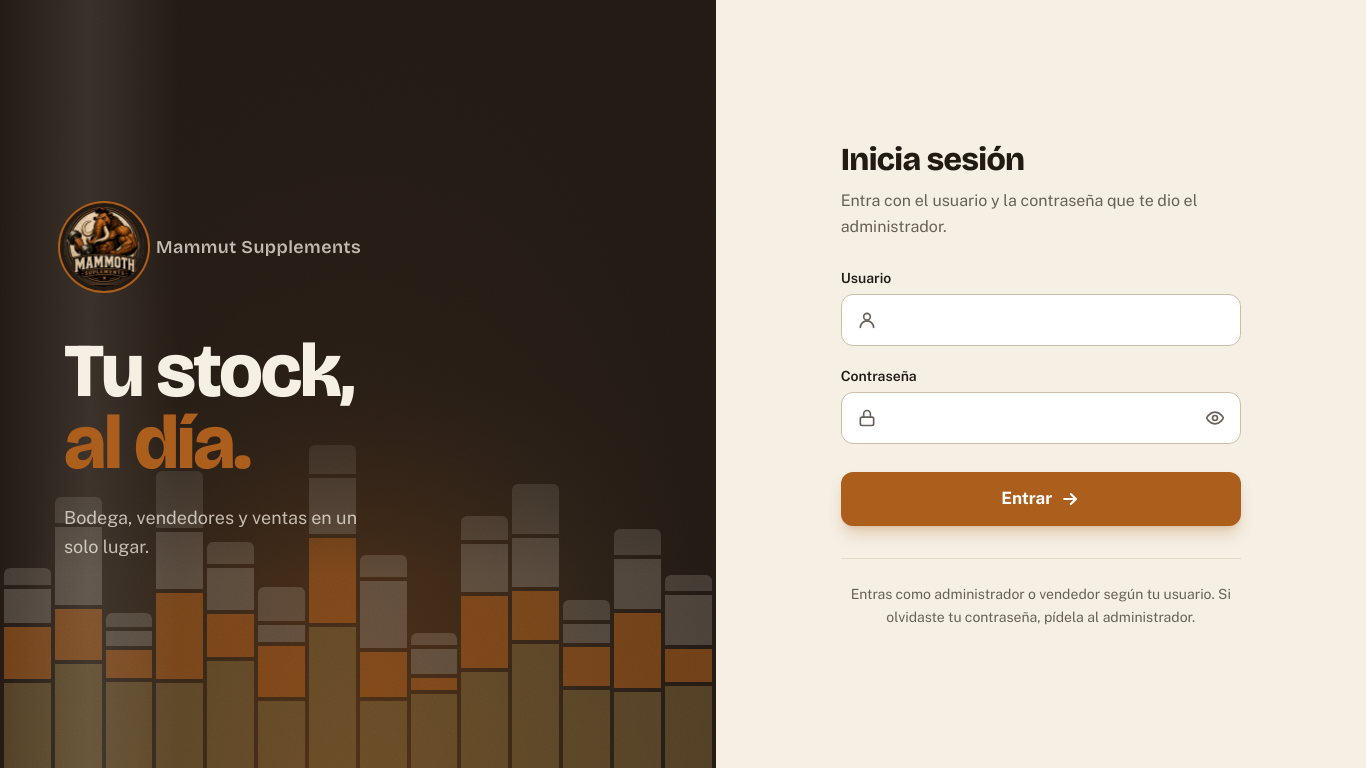
Test case: LoginPageComponent › con credenciales incorrectas muestra el mensaje de error
Step 1. Type "admin@mammut.local" into the field with id "email" → {"x": 1041, "y": 320}, box left=841, top=294, right=1241, bottom=346
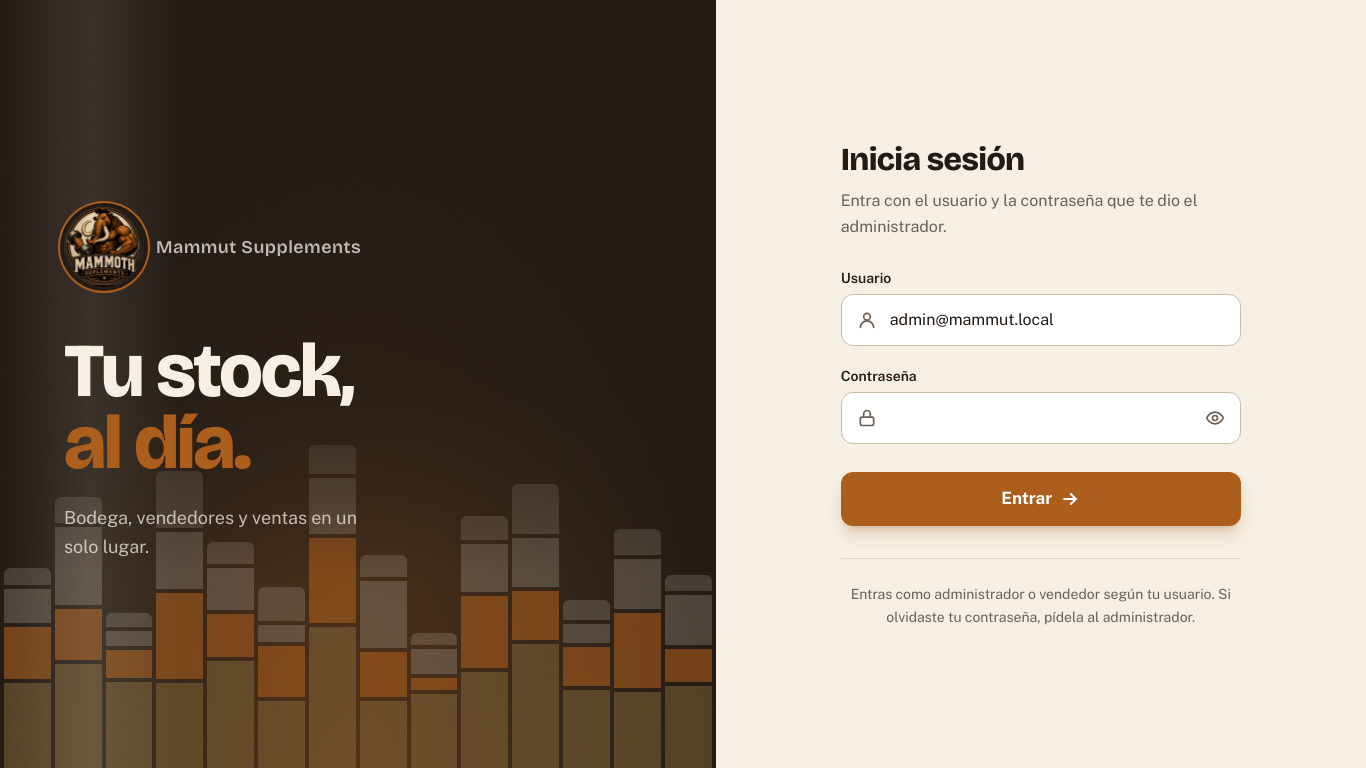
Step 2. Type "mala" into the password field labelled "Contraseña" → {"x": 1041, "y": 418}, box left=841, top=392, right=1241, bottom=444
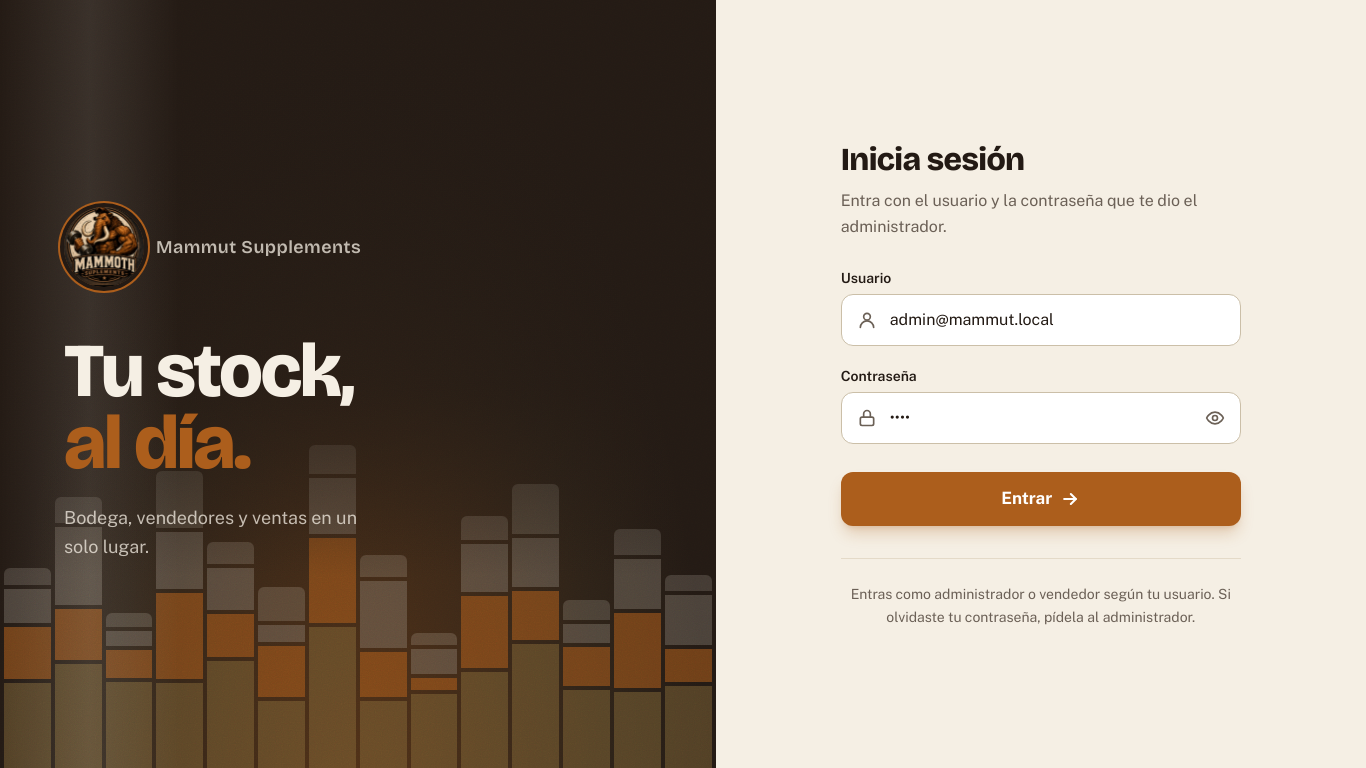
Step 3. Submit the form, box left=841, top=268, right=1241, bottom=526
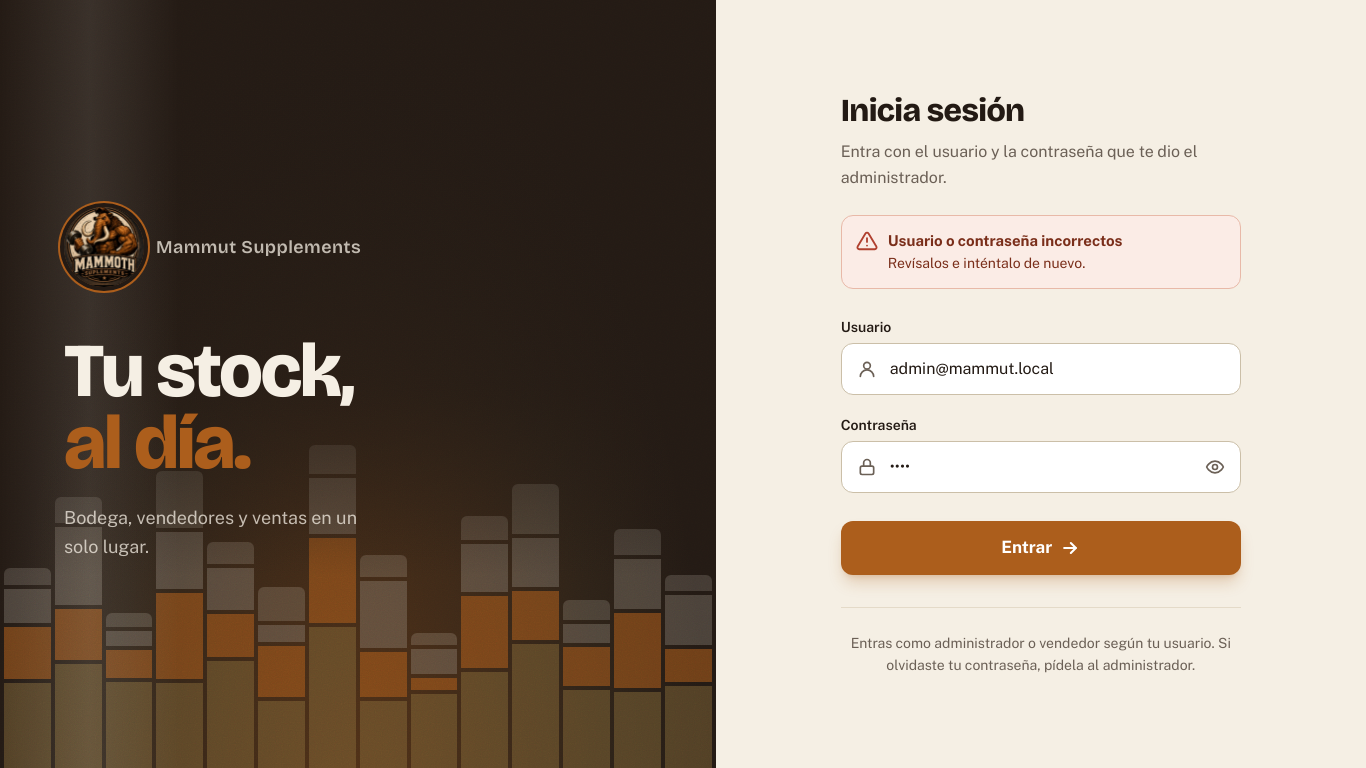
Now the text "Usuario o contraseña incorrectos" is shown, box left=888, top=230, right=1122, bottom=252
